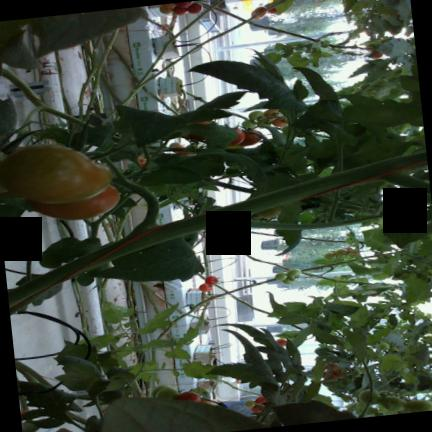6kp_peduncle: (87, 178, 218, 266), (321, 263, 339, 274), (241, 280, 264, 288)
6kp_petiole: (175, 194, 316, 235), (330, 151, 431, 195), (326, 278, 344, 293)
MainStem: (7, 152, 428, 316), (120, 0, 290, 105), (134, 0, 225, 88), (156, 278, 275, 340), (0, 68, 81, 125), (218, 243, 290, 271), (14, 360, 52, 389)
tomato: (0, 144, 111, 203), (26, 186, 119, 220), (186, 121, 209, 140), (379, 396, 406, 411), (405, 400, 432, 413), (155, 386, 179, 399), (357, 389, 379, 403), (228, 128, 245, 146), (256, 206, 281, 218), (238, 133, 261, 146), (175, 391, 200, 402), (152, 385, 169, 397), (187, 3, 202, 14), (271, 117, 287, 127), (263, 109, 279, 119), (248, 111, 263, 120), (198, 283, 213, 292), (256, 118, 270, 127), (287, 269, 302, 277), (274, 272, 287, 281), (173, 7, 187, 15), (242, 120, 256, 128), (160, 6, 173, 14), (205, 276, 218, 284), (323, 252, 336, 260), (250, 405, 263, 413), (332, 249, 346, 256), (176, 1, 192, 7), (255, 396, 267, 404), (161, 3, 176, 9), (137, 156, 146, 166), (244, 400, 255, 408), (379, 342, 390, 350), (282, 278, 294, 284)
